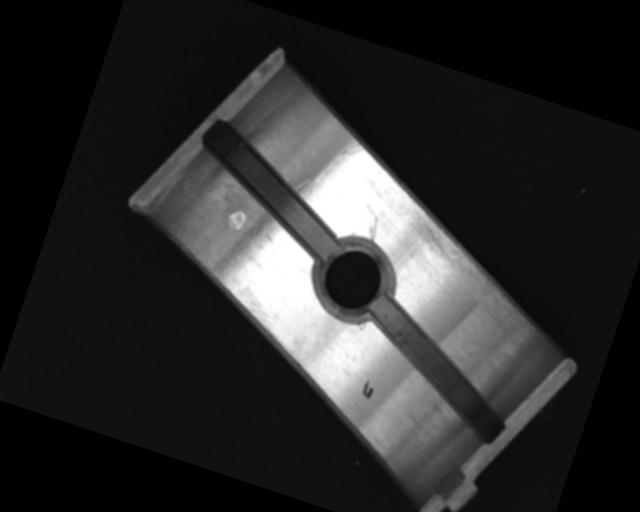blot: (358, 378, 376, 401)
bruise: (224, 207, 248, 233)
gap: (343, 294, 530, 443), (180, 121, 358, 258)
hole: (303, 232, 405, 331)
nick: (314, 132, 366, 195), (365, 215, 381, 243)
scratch: (393, 207, 558, 328)
